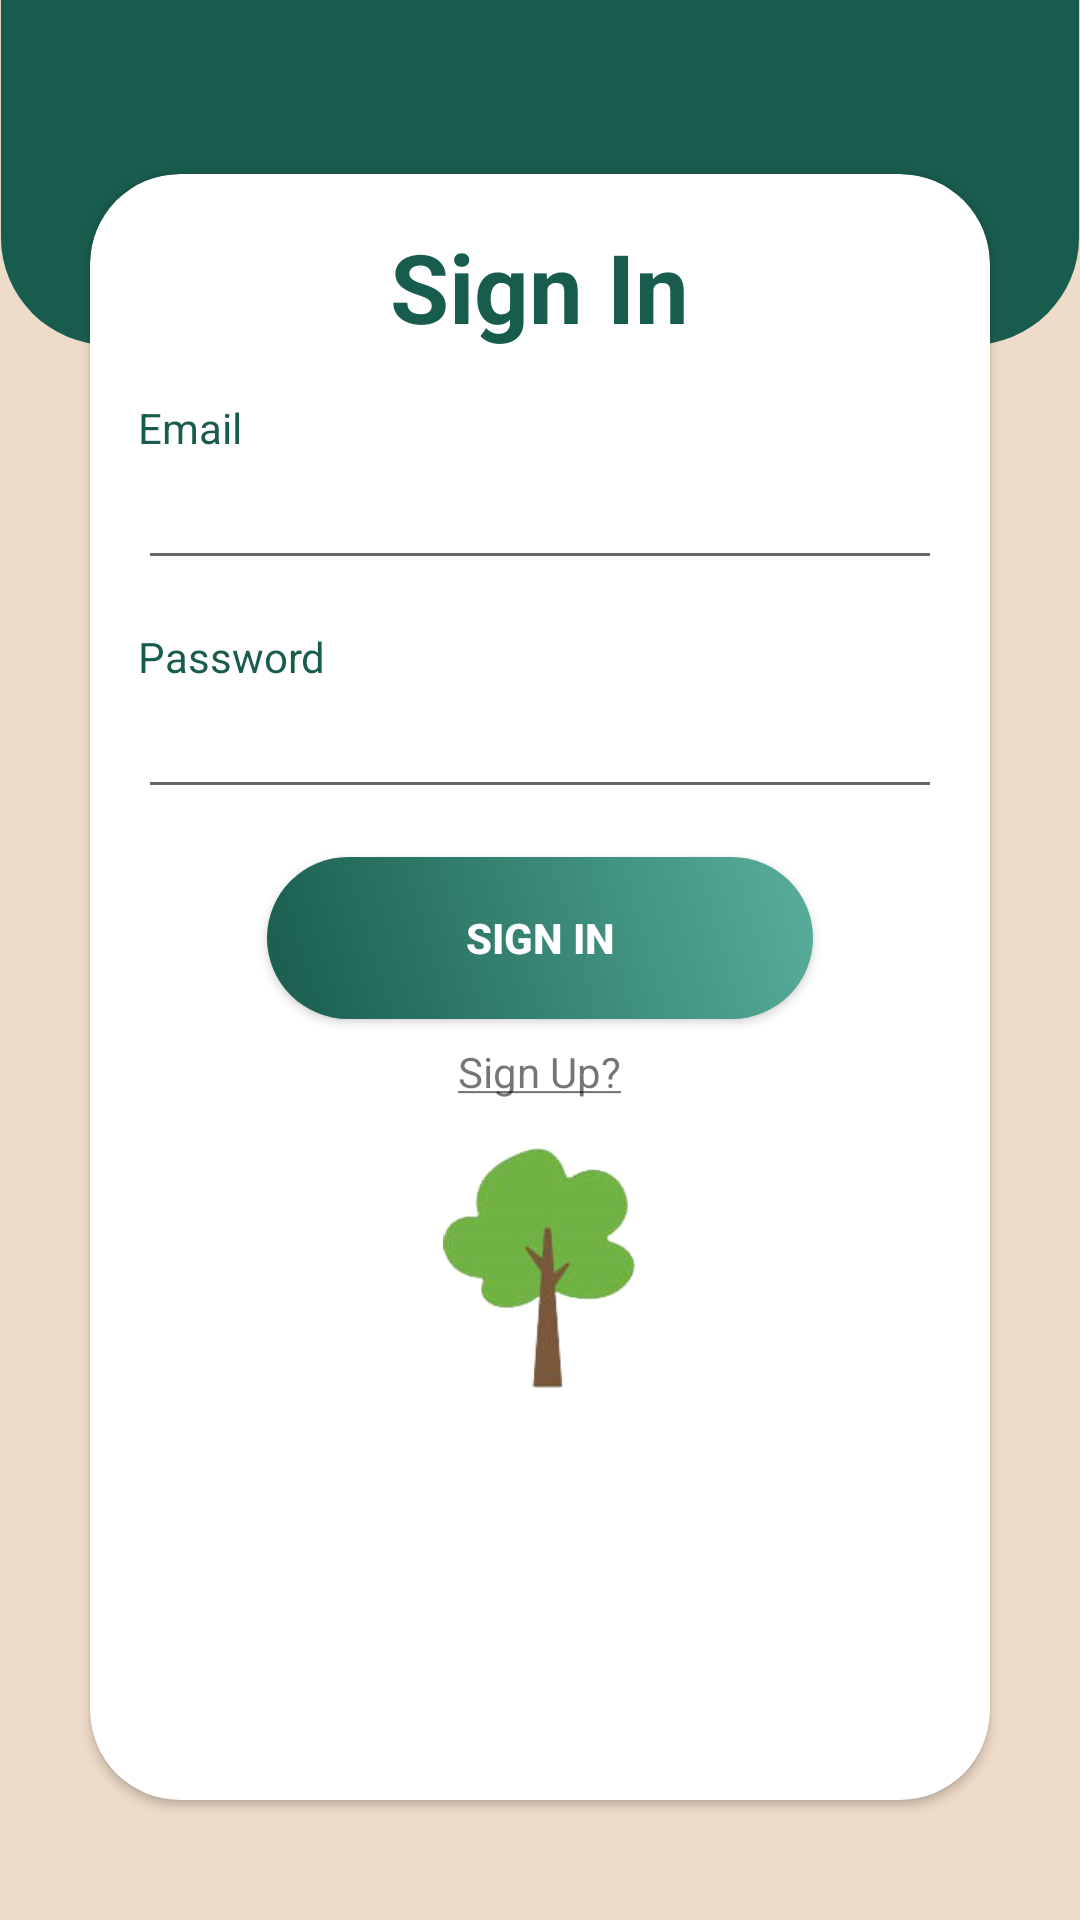

Point at icon controls on the screen. Image size 1080w x 1920h, points as (x,y).
tree: (539,1268)
